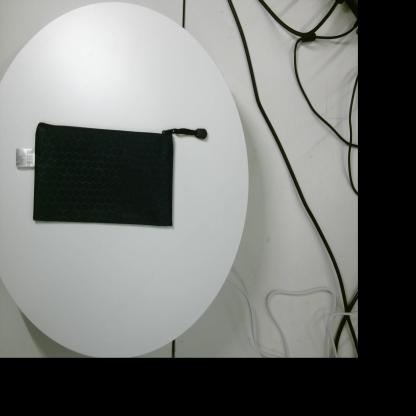Stationery: (15, 122, 208, 227)
